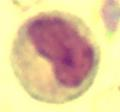monocyte: (6, 10, 103, 104)
